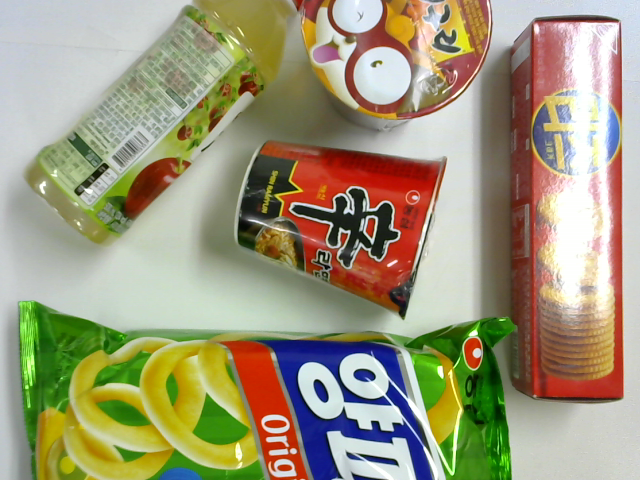Coca_Cola_1.5L: (506, 16, 623, 403)
Hwanta_Orange_1.5L: (17, 302, 518, 480)
Morning_Apple_500ml: (23, 1, 300, 244)
Raccoon: (302, 1, 492, 130)
Sinramen_small: (231, 140, 449, 320)
